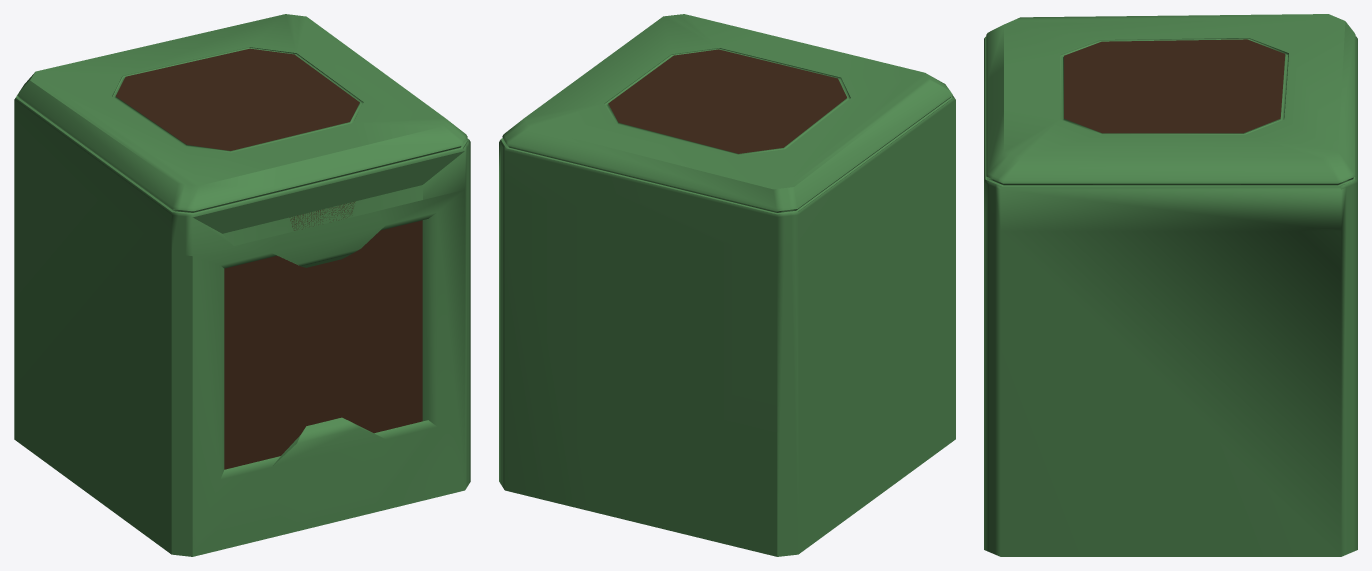
File: dryer.glb
3 views of the same model, side by side, from view 1: azimuth 30°, elevation 25°; view 2: azimuth 150°, elevation 25°; view 3: azimuth 270°, elevation 25° (orthographic). The views are drawn at different scales.
Visible parts, largest first — view 1: dryer; view 2: dryer; view 3: dryer.
Boxes of the visible parts, left/top/right/bottom form: dryer: left=14, top=14, right=470, bottom=556; dryer: left=499, top=14, right=955, bottom=556; dryer: left=984, top=14, right=1357, bottom=556.
Size of the model in its own units: 0.8916 by 1.03 by 0.8916.
